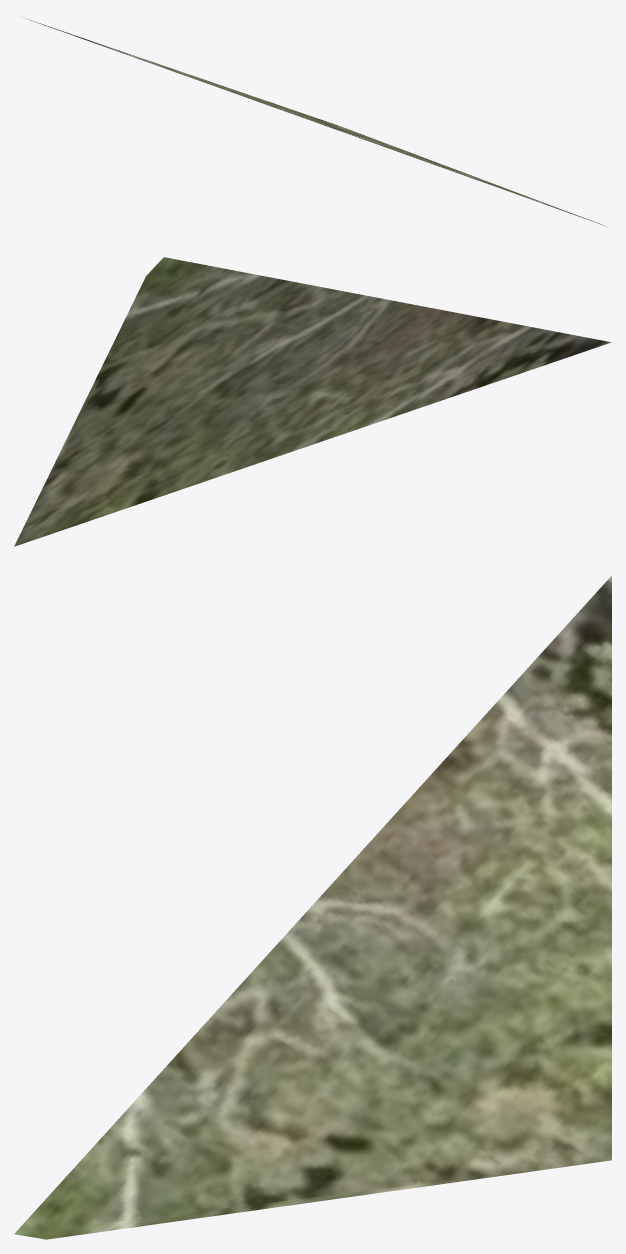
3 views of the same model, one above another, from view 1: azimuth 30°, elevation 25°; view 2: azimuth 150°, elevation 25°; view 3: azimuth 270°, elevation 25° (orthographic). The views are drawn at different scales.
Bounding box in the file's own units: 2.82 × 1.22 × 2.07.
1 material, 1 textured.
